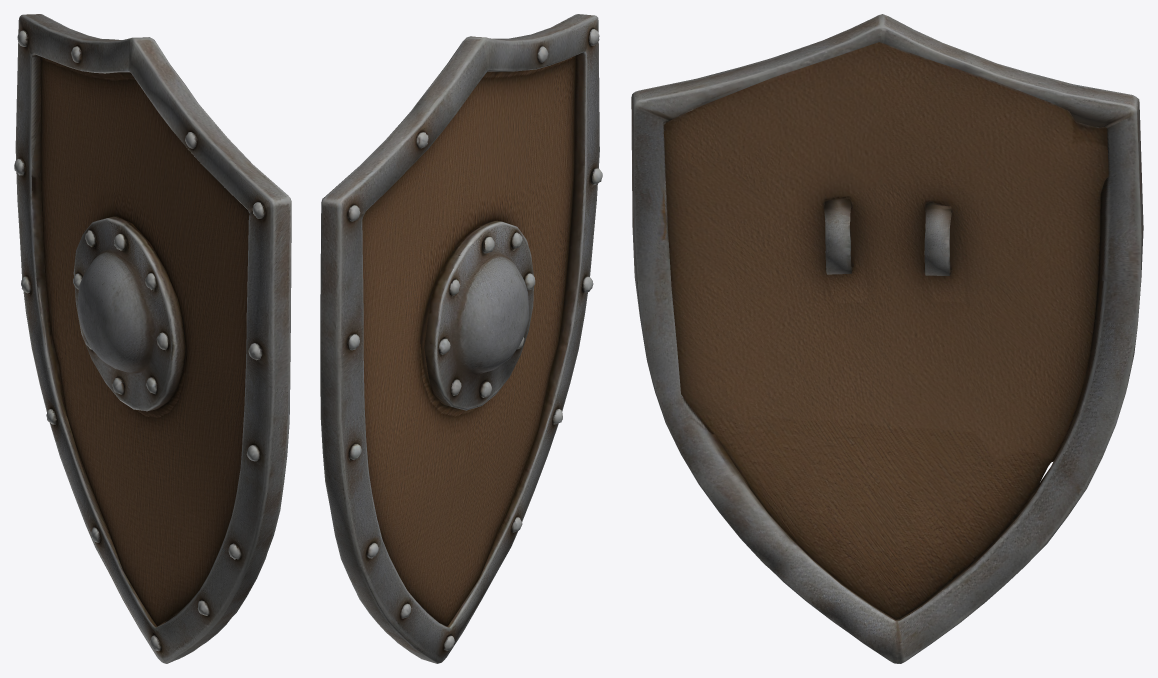
Rendered from bouclier.glb.
The picture shows the model from 3 angles, left to right: view 1: azimuth 30°, elevation 25°; view 2: azimuth 150°, elevation 25°; view 3: azimuth 270°, elevation 25°; orthographic projection. The views are drawn at different scales.
Parts seen in each view (by area): view 1: BOUCLIER; view 2: BOUCLIER; view 3: BOUCLIER.
Part boxes in pixels (left/top/right/bottom): BOUCLIER: left=14, top=14, right=291, bottom=663; BOUCLIER: left=320, top=14, right=602, bottom=663; BOUCLIER: left=631, top=14, right=1143, bottom=663.
Size of the model in its own units: 0.1756 by 1.21 by 0.899.
1 material, 1 textured.
